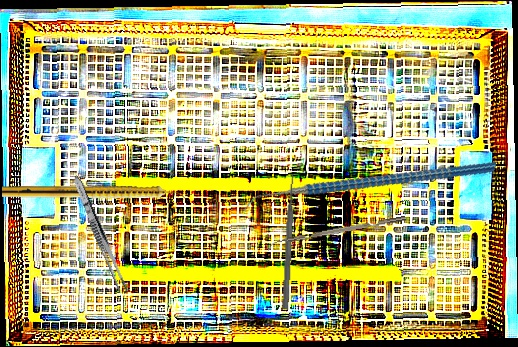Chopper: (242, 112, 497, 265), (266, 215, 407, 252)
Dressing Forceps: (69, 173, 131, 296)
Handpiece: (2, 186, 185, 201)
Pusher: (280, 173, 298, 310)
